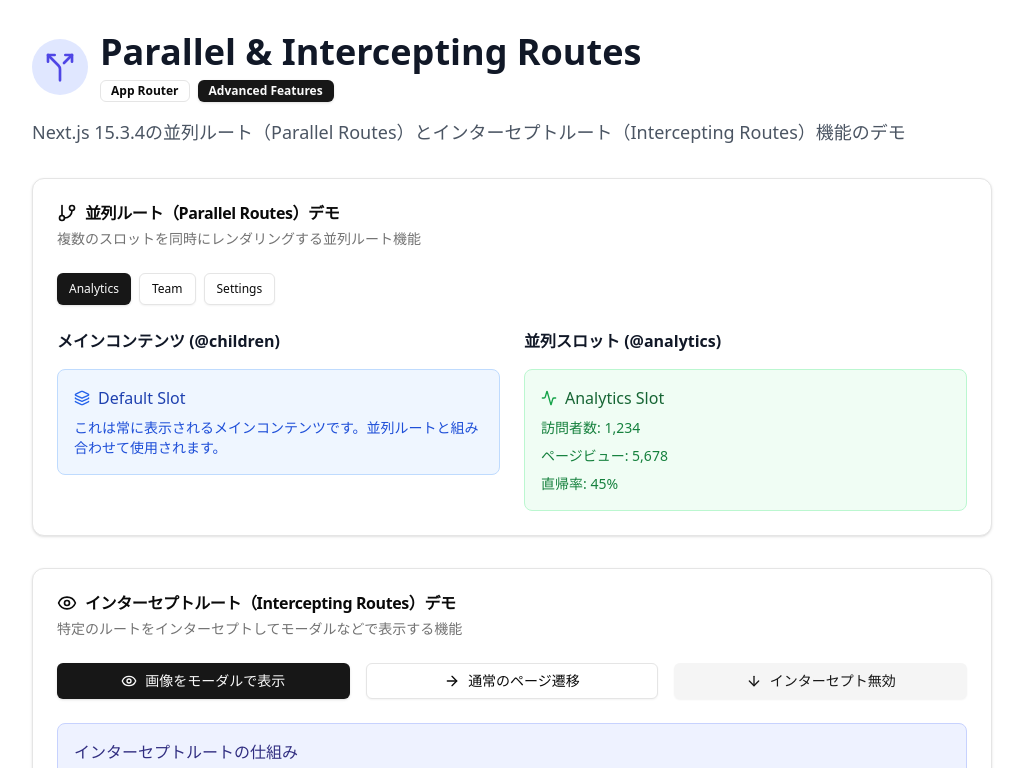
Test: Parallel & Intercepting Routes Page › 並列コンテンツの切り替えボタンが動作すべき
Expected: the button "Analytics" is shown, [57, 273, 131, 305]
Expected: the button "Settings" is shown, [204, 273, 275, 305]
Teamボタンをクリック
Step 1. Click the button "Team" → (167, 289), box [139, 273, 196, 305]
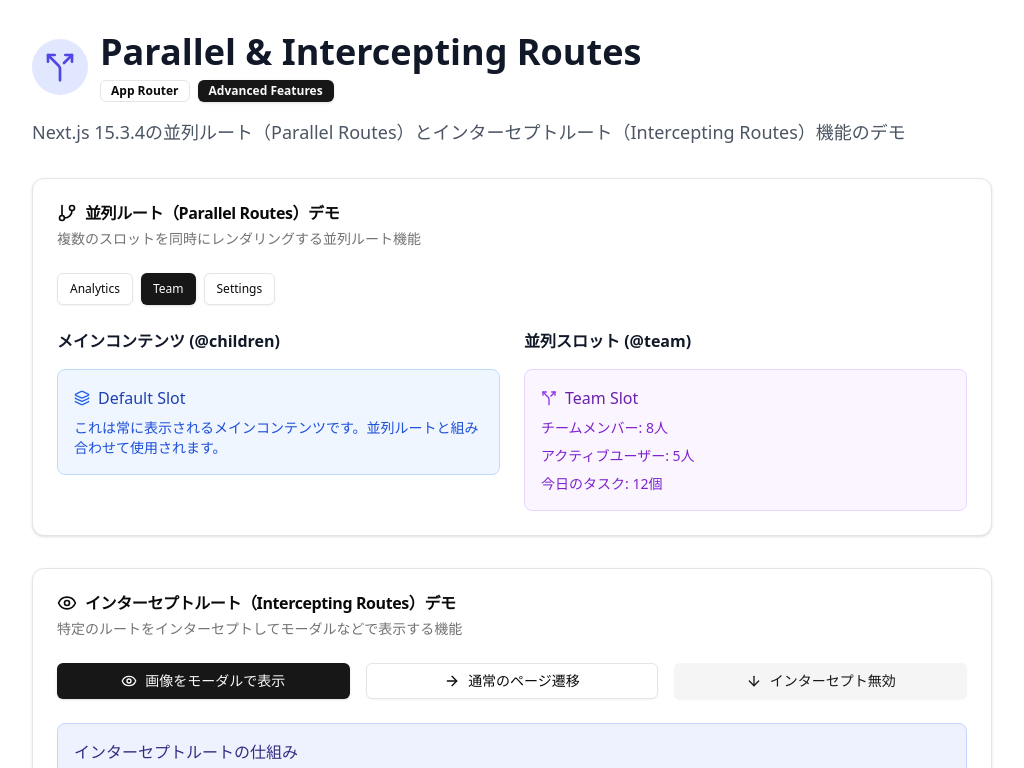
Result: the heading "並列スロット (@team)" is shown at [524, 330, 691, 352]
Result: the text "チームメンバー: 8人" is shown at [541, 418, 668, 437]
Settingsボタンをクリック
Step 2. Click the button "Settings" → (239, 289), box [204, 273, 275, 305]
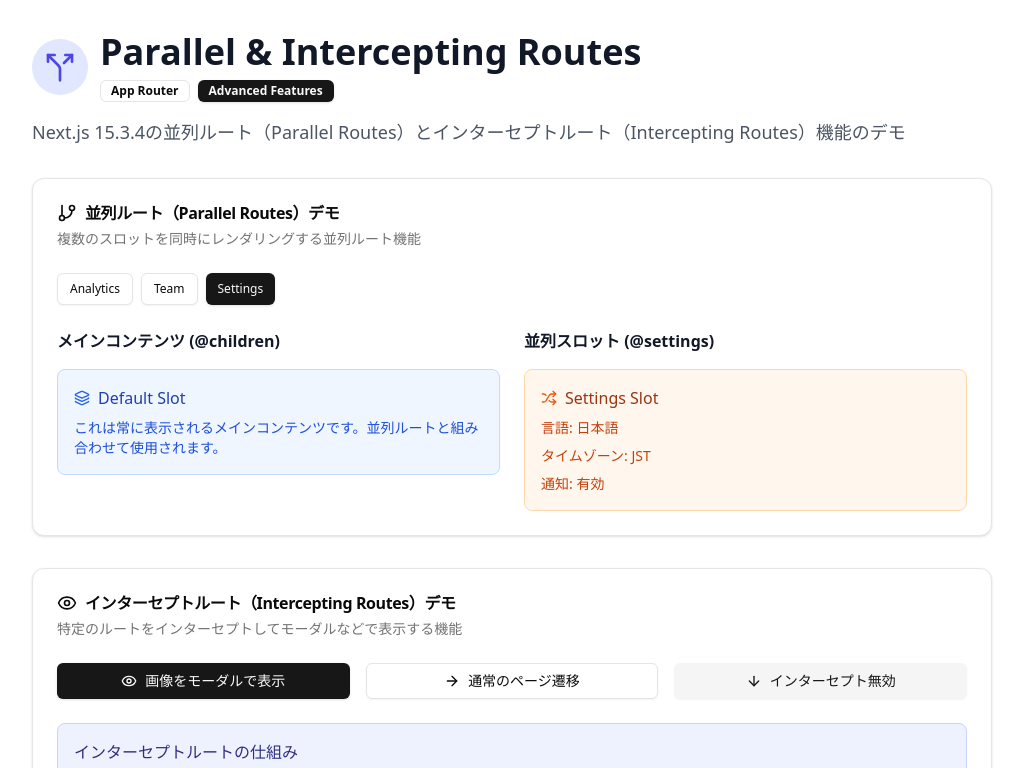
Result: the heading "並列スロット (@settings)" is shown at [524, 330, 714, 352]
Result: the text "言語: 日本語" is shown at [541, 418, 618, 437]
